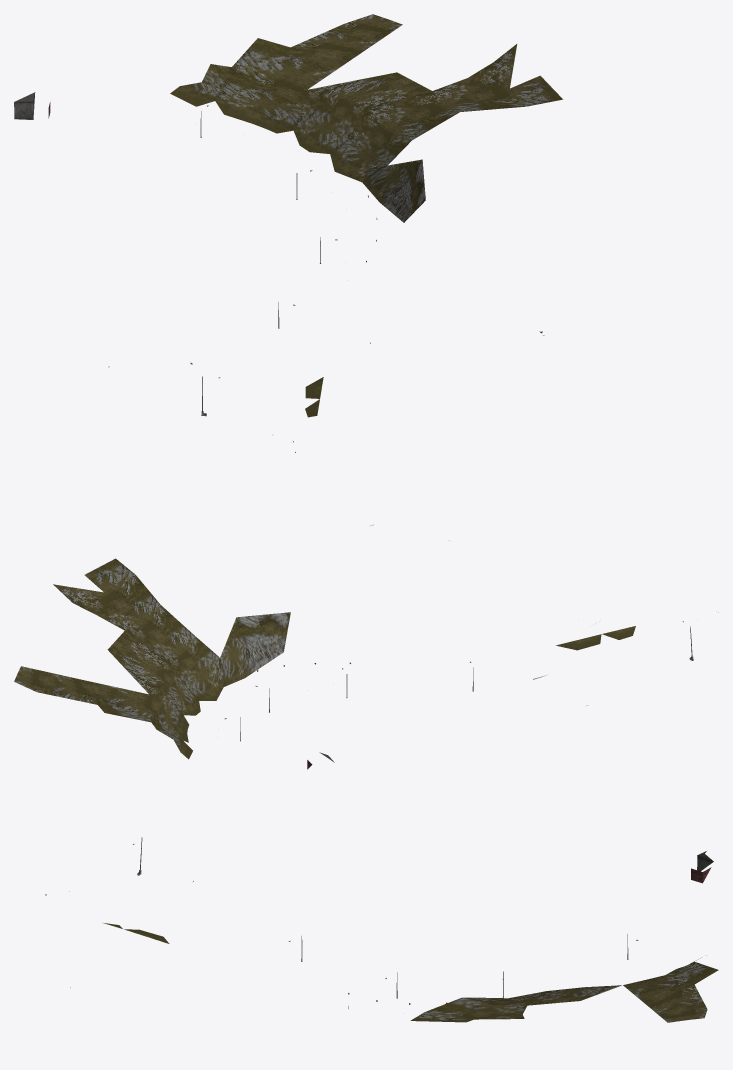
Rendered from world_camden_12_-6.gltf.
The picture shows the model from 3 angles, top to bottom: view 1: azimuth 30°, elevation 25°; view 2: azimuth 150°, elevation 25°; view 3: azimuth 270°, elevation 25°; orthographic projection. The views are drawn at different scales.
Size of the model in its own units: 237 by 63.84 by 260.
Materials: 16 (16 with a texture image).
